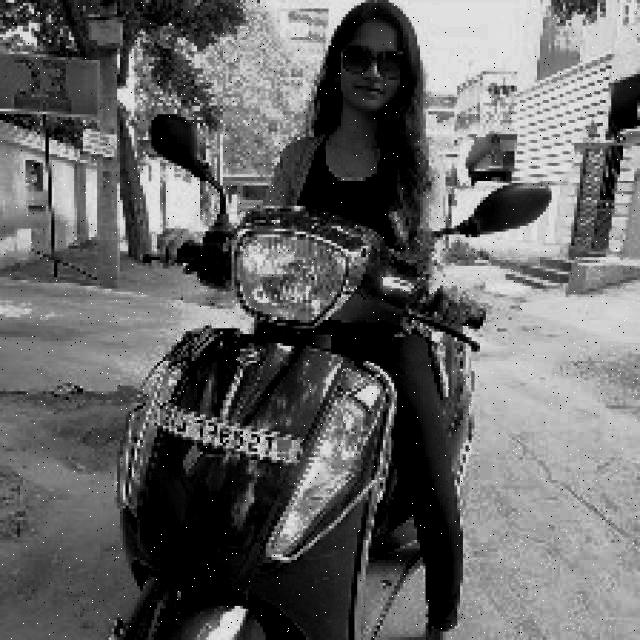Bike: (105, 207, 430, 639)
